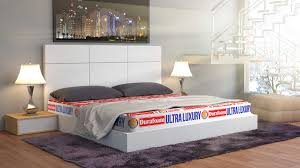bed-matress: (45, 91, 258, 153)
